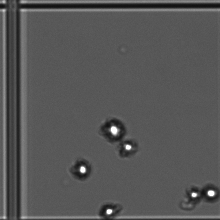Living Cell: (101, 113, 121, 139), (69, 159, 91, 180), (201, 180, 220, 204), (96, 200, 120, 217), (118, 138, 137, 157), (186, 184, 199, 205)
